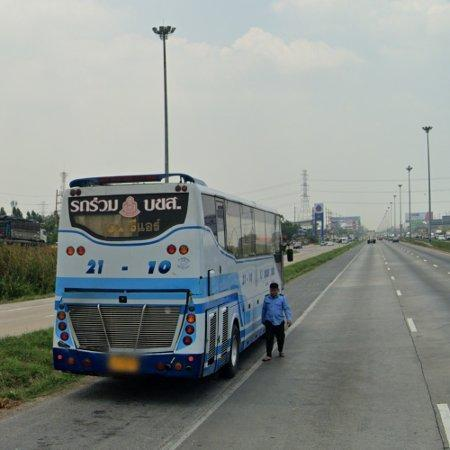buses: (54, 173, 283, 378)
